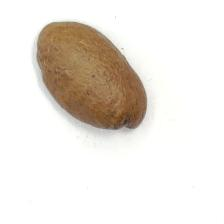NG: (108, 113, 138, 132)
